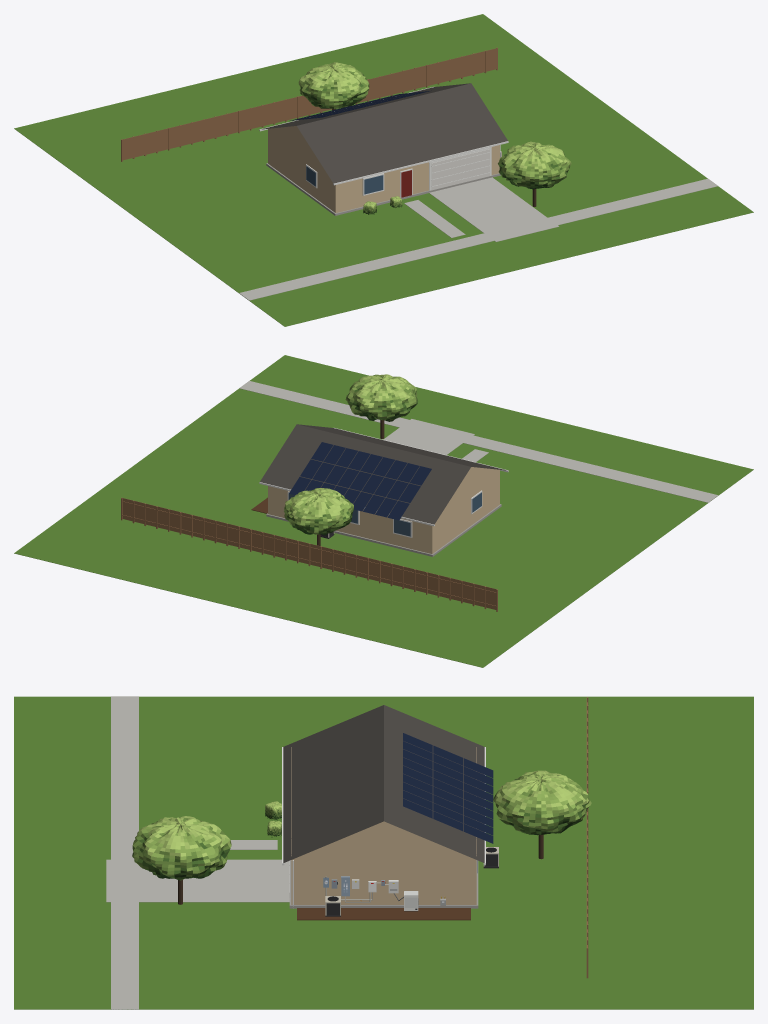
File: home_05_post_install.obj
3 views of the same model, one above another, from view 1: azimuth 30°, elevation 25°; view 2: azimuth 150°, elevation 25°; view 3: azimuth 270°, elevation 25° (orthographic). The views are drawn at different scales.
Parts seen in each view (by area): view 1: yard, house, tree_1, tree_2, solar_array; view 2: yard, house, solar_array, tree_1, tree_2; view 3: yard, house, solar_array, tree_1, tree_2, mulch_bed_side.
Boxes of the visible parts, left/top/right/bottom form: yard: left=14, top=14, right=753, bottom=326; house: left=259, top=83, right=508, bottom=215; tree_1: left=498, top=141, right=571, bottom=206; tree_2: left=298, top=62, right=369, bottom=110; solar_array: left=290, top=90, right=431, bottom=120; yard: left=14, top=355, right=753, bottom=667; house: left=259, top=424, right=508, bottom=556; solar_array: left=289, top=442, right=431, bottom=520; tree_1: left=345, top=374, right=417, bottom=438; tree_2: left=284, top=488, right=353, bottom=545; yard: left=14, top=696, right=753, bottom=1009; house: left=282, top=705, right=485, bottom=908; solar_array: left=403, top=733, right=493, bottom=843; tree_1: left=132, top=816, right=231, bottom=904; tree_2: left=493, top=770, right=591, bottom=859; mulch_bed_side: left=297, top=908, right=470, bottom=920.
Size of the model in its own units: 40 by 5.38 by 40.
